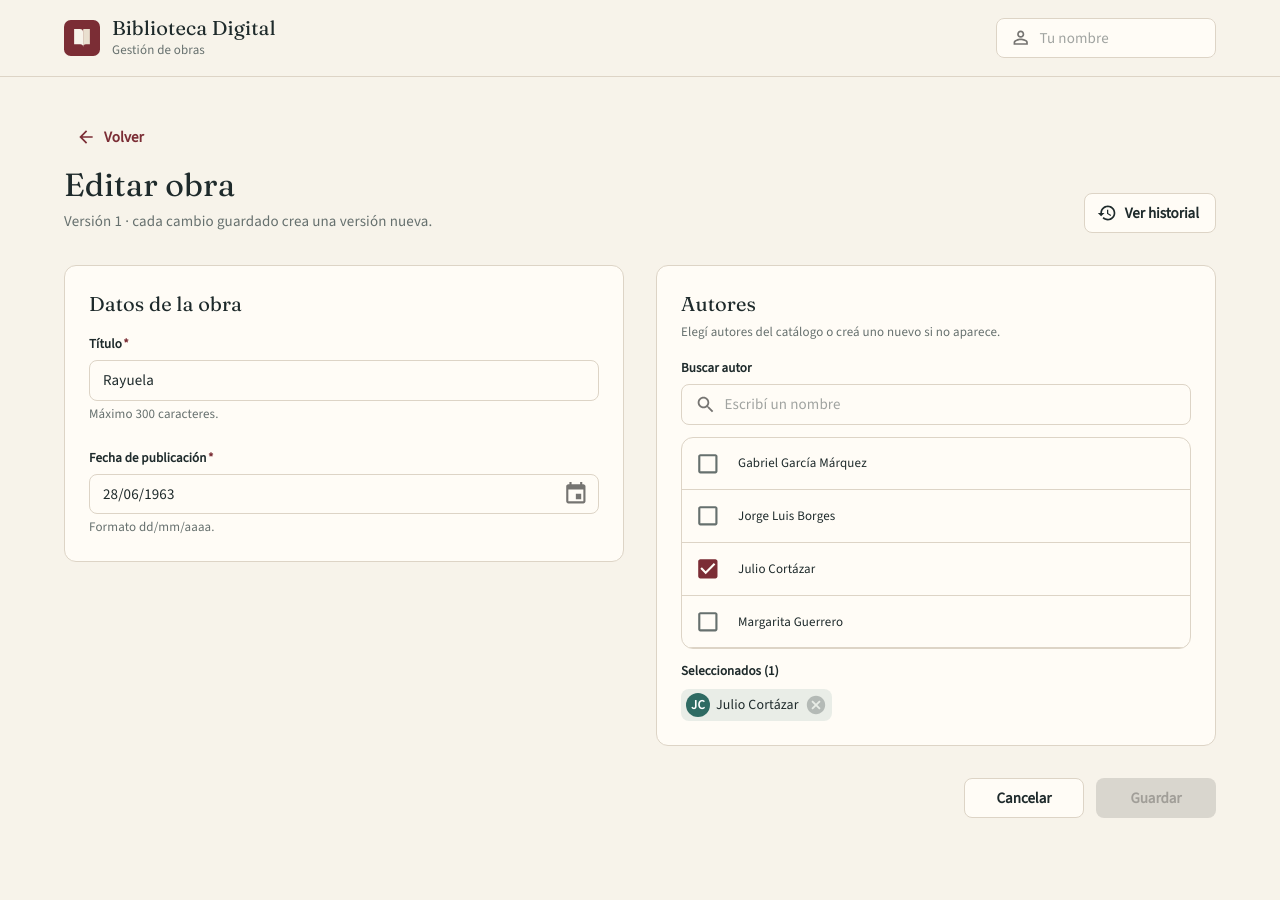
Test: Editar obra › carga la obra y deshabilita Guardar hasta que haya cambios
Expected: the field labelled "Fecha de publicación *" holds "28/06/1963", 89,474 -> 547,514
Expected: the button "Guardar" is disabled, 1096,778 -> 1216,818
Type " (revisada)" into the field showing "Rayuela" at (344, 380), box 89,360 -> 599,401
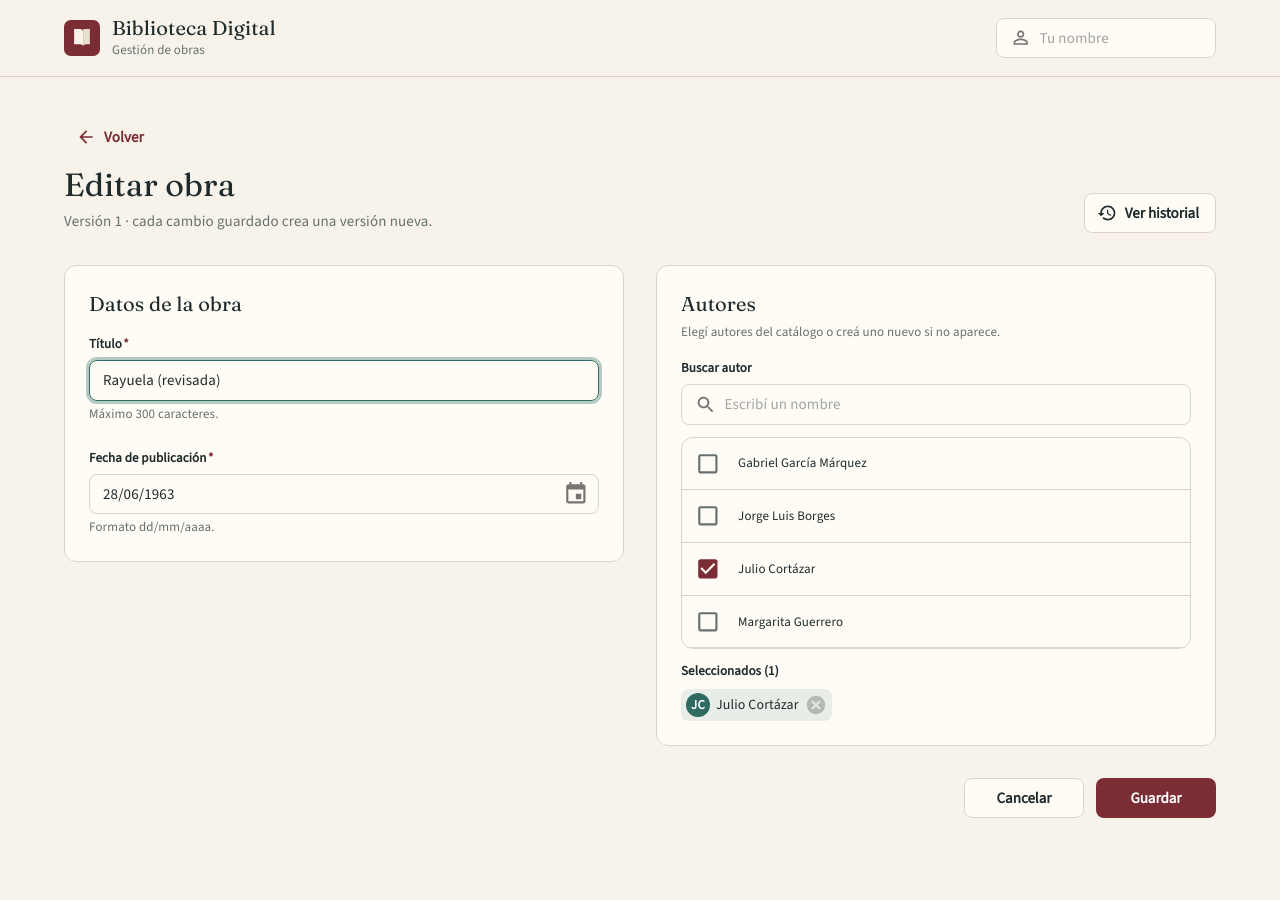
Now the button "Guardar" is enabled, box 1096,778 -> 1216,818
